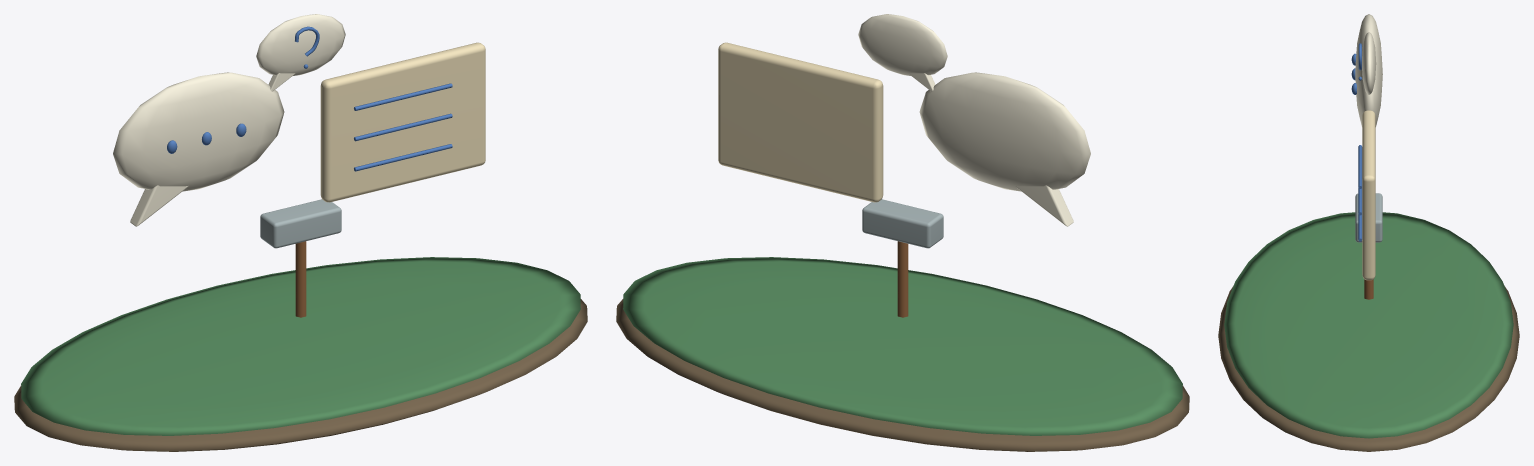
File: complete-second-speech-formula-test.glb
The picture shows the model from 3 angles, left to right: view 1: azimuth 30°, elevation 25°; view 2: azimuth 150°, elevation 25°; view 3: azimuth 270°, elevation 25°; orthographic projection. The views are drawn at different scales.
Parts seen in each view (by area): view 1: complete-second-speech-formula-test_surface_01, complete-second-speech-formula-test_surface_02, complete-second-speech-formula-test_surface_04, complete-second-speech-formula-test_surface_00, complete-second-speech-formula-test_surface_06, complete-second-speech-formula-test_surface_03, complete-second-speech-formula-test_surface_05; view 2: complete-second-speech-formula-test_surface_01, complete-second-speech-formula-test_surface_04, complete-second-speech-formula-test_surface_02, complete-second-speech-formula-test_surface_00, complete-second-speech-formula-test_surface_06, complete-second-speech-formula-test_surface_05; view 3: complete-second-speech-formula-test_surface_01, complete-second-speech-formula-test_surface_00, complete-second-speech-formula-test_surface_04, complete-second-speech-formula-test_surface_02, complete-second-speech-formula-test_surface_03, complete-second-speech-formula-test_surface_06.
Boxes of the visible parts, box(x1,y1,x2,y2) form: complete-second-speech-formula-test_surface_01: box(21, 257, 580, 435); complete-second-speech-formula-test_surface_02: box(113, 14, 345, 226); complete-second-speech-formula-test_surface_04: box(320, 42, 485, 202); complete-second-speech-formula-test_surface_00: box(14, 299, 587, 451); complete-second-speech-formula-test_surface_06: box(260, 199, 341, 248); complete-second-speech-formula-test_surface_03: box(167, 26, 452, 171); complete-second-speech-formula-test_surface_05: box(295, 241, 306, 317); complete-second-speech-formula-test_surface_01: box(623, 257, 1182, 435); complete-second-speech-formula-test_surface_04: box(718, 42, 883, 202); complete-second-speech-formula-test_surface_02: box(858, 14, 1090, 226); complete-second-speech-formula-test_surface_00: box(616, 299, 1189, 451); complete-second-speech-formula-test_surface_06: box(862, 199, 943, 248); complete-second-speech-formula-test_surface_05: box(897, 241, 908, 317); complete-second-speech-formula-test_surface_01: box(1224, 212, 1513, 438); complete-second-speech-formula-test_surface_00: box(1218, 287, 1519, 451); complete-second-speech-formula-test_surface_04: box(1362, 110, 1375, 280); complete-second-speech-formula-test_surface_02: box(1355, 14, 1382, 126); complete-second-speech-formula-test_surface_03: box(1351, 43, 1362, 241); complete-second-speech-formula-test_surface_06: box(1355, 193, 1382, 242).
Size of the model in its own units: 4.56 by 2.85 by 2.5.
